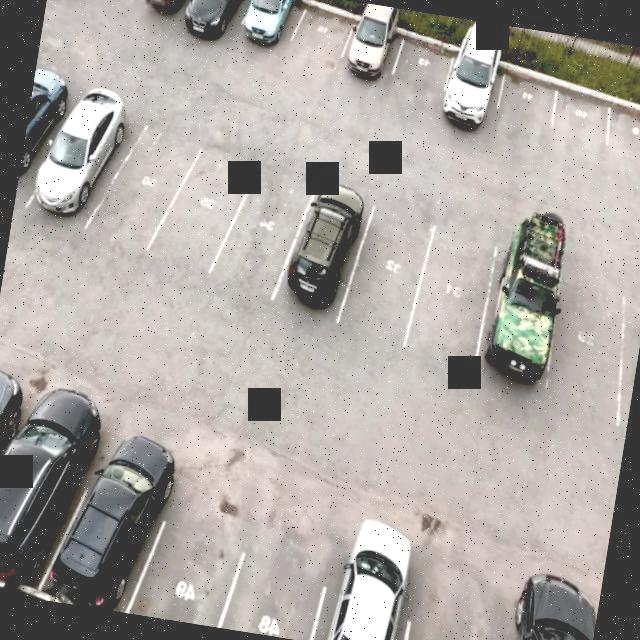car: (52, 454, 168, 616), (28, 94, 140, 254), (467, 242, 574, 405), (0, 416, 92, 602), (268, 174, 379, 324), (426, 41, 516, 148), (14, 75, 79, 213), (326, 2, 406, 100), (310, 561, 409, 640), (481, 590, 598, 640), (227, 0, 308, 68), (604, 301, 640, 441), (179, 0, 255, 58), (137, 0, 211, 40), (0, 393, 10, 553), (46, 0, 118, 12)
free: (89, 112, 202, 264), (144, 138, 258, 287), (134, 491, 251, 630), (394, 231, 505, 374), (210, 168, 318, 308), (332, 211, 438, 350), (539, 277, 640, 413), (217, 517, 328, 640), (281, 0, 361, 90), (384, 28, 462, 116), (488, 72, 564, 148), (397, 588, 501, 640), (547, 88, 617, 157), (592, 106, 640, 187), (90, 0, 165, 19)
